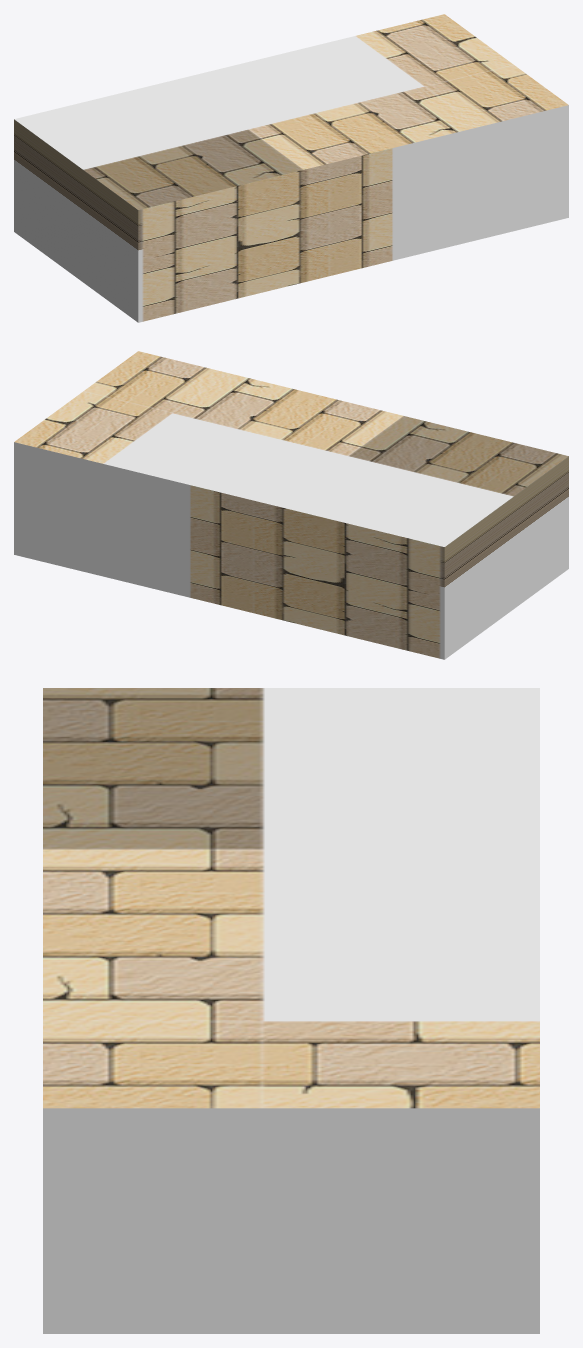
File: blockI.fbx
The picture shows the model from 3 angles, top to bottom: view 1: azimuth 30°, elevation 25°; view 2: azimuth 150°, elevation 25°; view 3: azimuth 270°, elevation 25°; orthographic projection. The views are drawn at different scales.
Parts seen in each view (by area): view 1: pCube1; view 2: pCube1; view 3: pCube1.
Part boxes in pixels (<box>): pCube1: <box>14,14,568,322</box>; pCube1: <box>14,351,568,659</box>; pCube1: <box>43,688,539,1333</box>.
Size of the model in its own units: 200 by 50 by 100.
